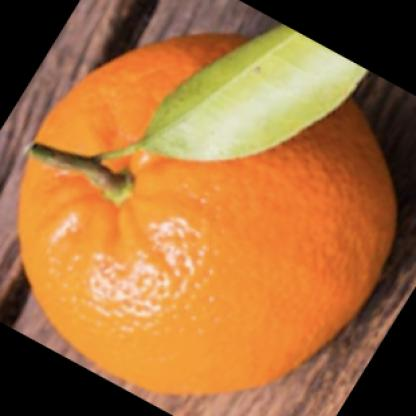fresh: (19, 36, 398, 398)
